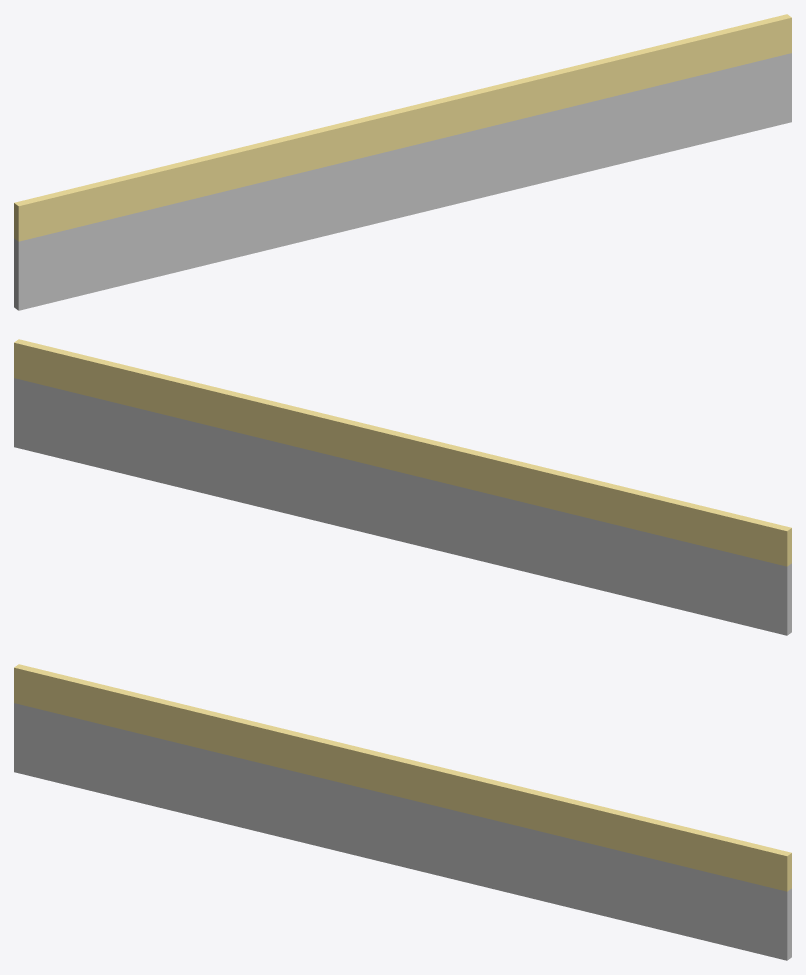
The model's file is Level_3_OuterWall.fbx.
3 views of the same model, one above another, from view 1: azimuth 30°, elevation 25°; view 2: azimuth 150°, elevation 25°; view 3: azimuth 330°, elevation 25° (orthographic).
Visible parts, largest first — view 1: L3_UpperWalls_1; view 2: L3_UpperWalls_1; view 3: L3_UpperWalls_1.
Boxes of the visible parts, bbox=[...] form: L3_UpperWalls_1: bbox=[14, 14, 791, 310]; L3_UpperWalls_1: bbox=[14, 339, 791, 635]; L3_UpperWalls_1: bbox=[14, 664, 791, 960].
Size of the model in its own units: 2340 by 302 by 25.01.
